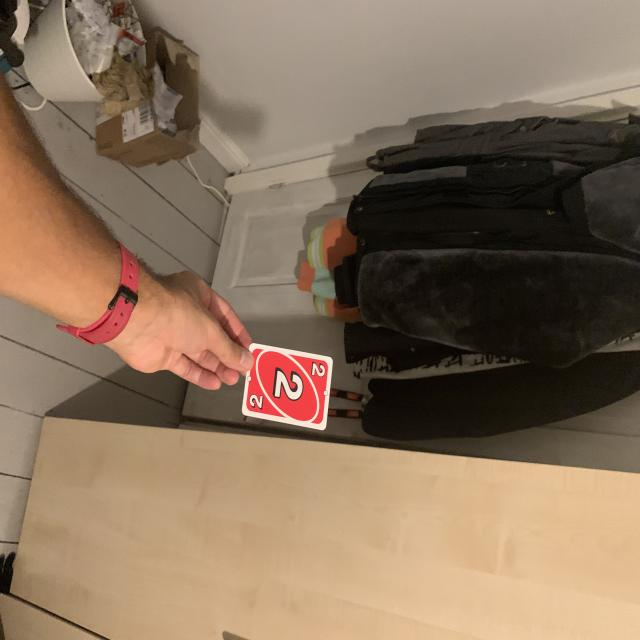lred-2: (308, 359, 327, 380)
